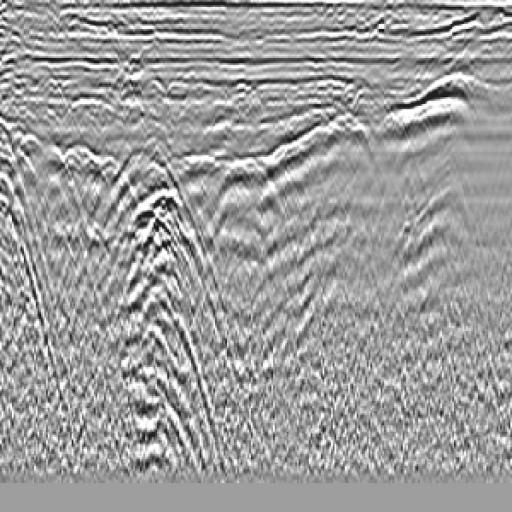metalic: (204, 133, 332, 305)
